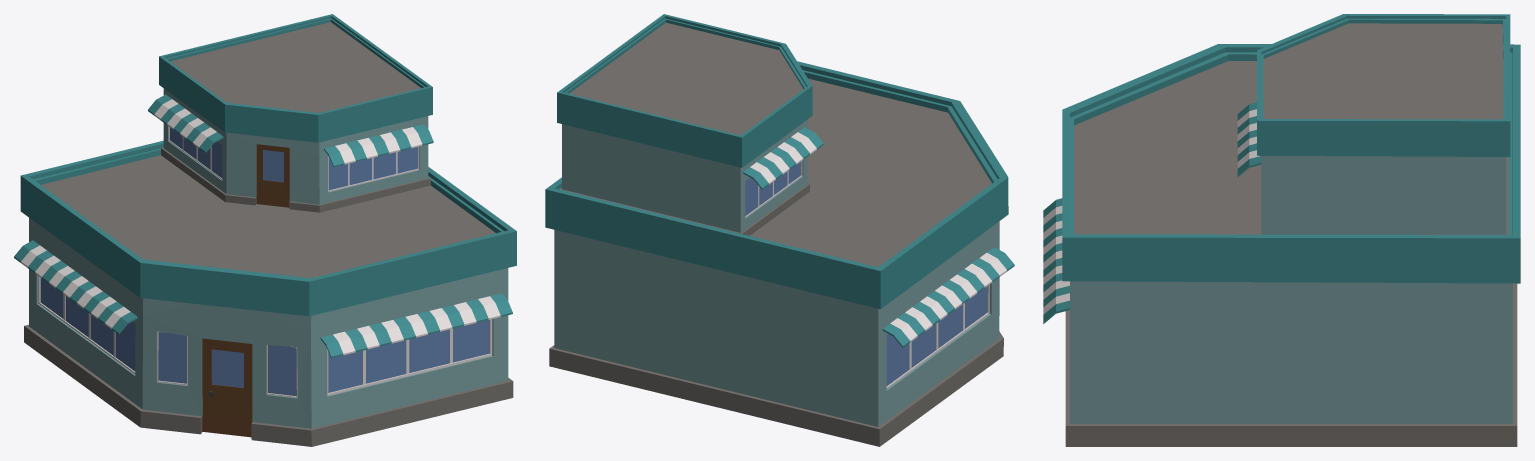
The model's file is House_15.fbx.
The picture shows the model from 3 angles, left to right: view 1: azimuth 30°, elevation 25°; view 2: azimuth 150°, elevation 25°; view 3: azimuth 270°, elevation 25°; orthographic projection. The views are drawn at different scales.
Parts seen in each view (by area): view 1: House_15; view 2: House_15; view 3: House_15.
Boxes of the visible parts, box(x1,y1,x2,y2) form: House_15: box(14, 14, 516, 446); House_15: box(545, 14, 1014, 446); House_15: box(1043, 14, 1520, 446).
Size of the model in its own units: 14.72 by 10.98 by 14.69.
